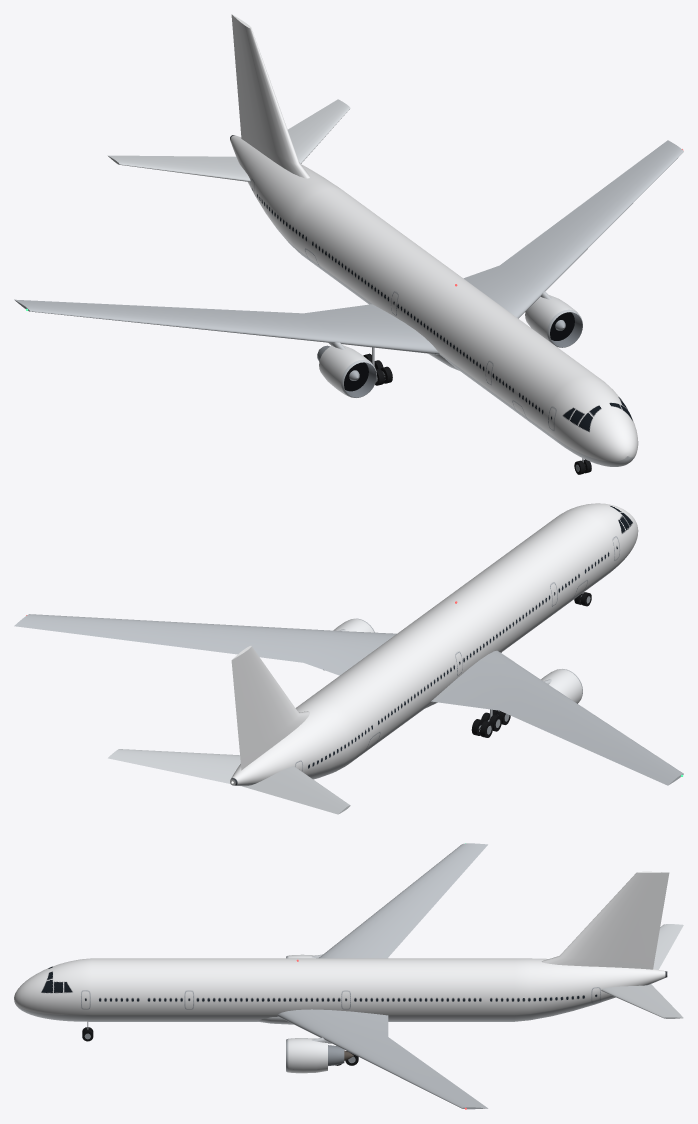
3 renders of one model, top to bottom at view 1: azimuth 30°, elevation 25°; view 2: azimuth 150°, elevation 25°; view 3: azimuth 270°, elevation 25°, orthographic. The views are drawn at different scales.
Visible parts, largest first — view 1: body; view 2: body, gear; view 3: body.
Part boxes in pixels (left/top/right/bottom): body: left=14, top=14, right=683, bottom=466; body: left=14, top=503, right=683, bottom=814; gear: left=471, top=592, right=591, bottom=737; body: left=14, top=843, right=683, bottom=1109.
Bounding box in the file's own units: 61.25 × 17.96 × 65.36.
Materials: 19 (1 with a texture image).
